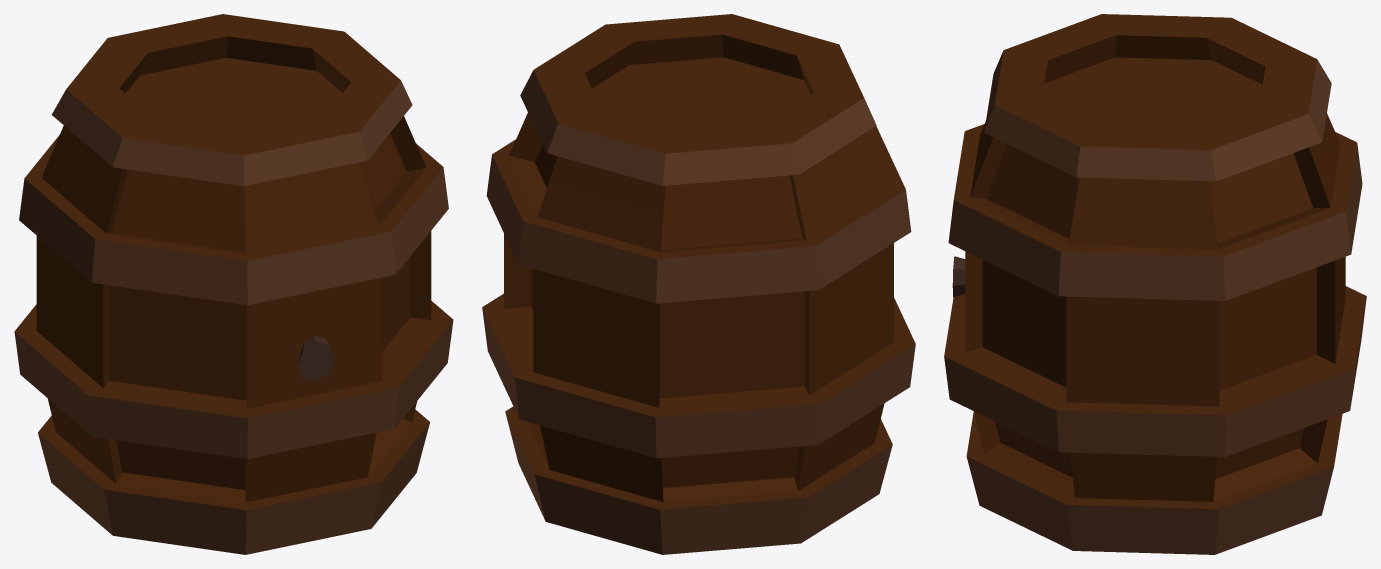
File: wooden_barrel.fbx
3 renders of one model, left to right at view 1: azimuth 30°, elevation 25°; view 2: azimuth 150°, elevation 25°; view 3: azimuth 270°, elevation 25°, orthographic.
Parts seen in each view (by area): view 1: wooden_barrel; view 2: wooden_barrel; view 3: wooden_barrel.
Boxes of the visible parts, x1,y1,x2,y2 form: wooden_barrel: (14,14,453,554); wooden_barrel: (482,14,915,554); wooden_barrel: (944,14,1366,554).
Size of the model in its own units: 64.13 by 66.69 by 64.13.
